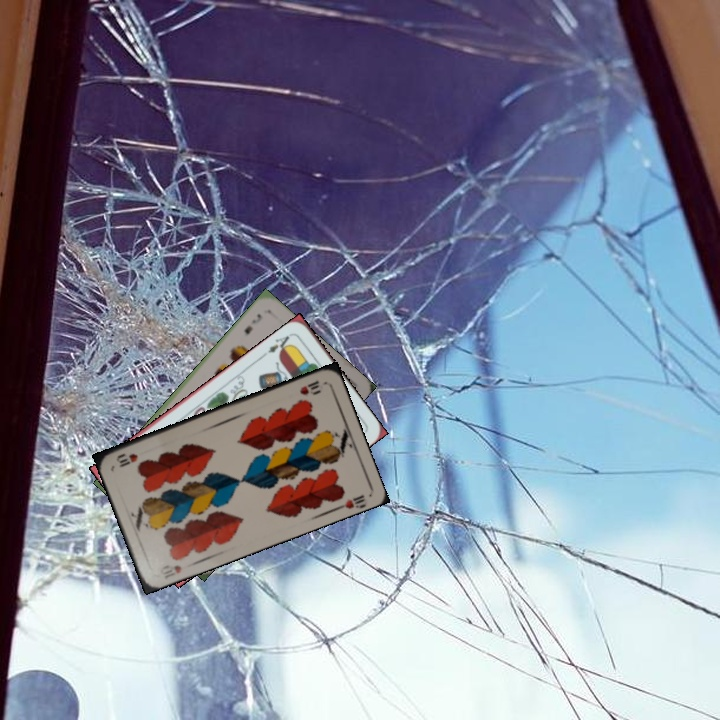E7: (240, 310, 265, 337)
EA: (259, 329, 295, 359)
H10: (296, 377, 323, 398), (156, 561, 184, 581)
